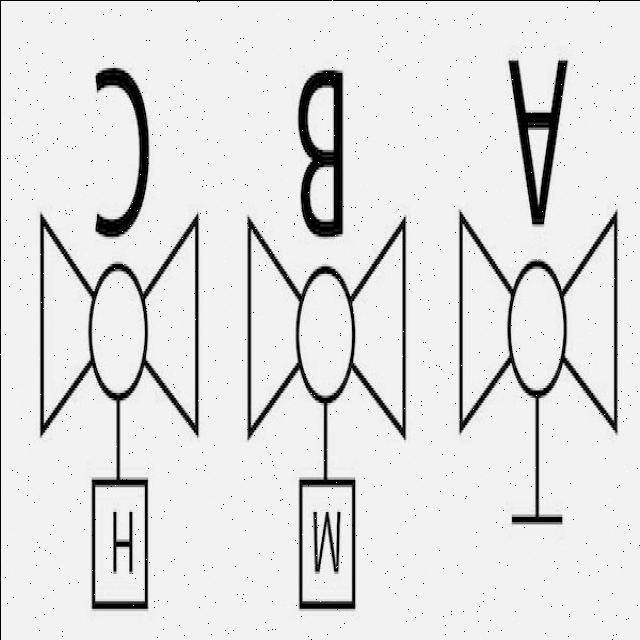Hand Operated Globe Valve: (440, 212, 632, 578)
Hydraulic Operated Globe Valve: (35, 207, 211, 640)
Motor Operated Globe Valve: (226, 205, 412, 640)
